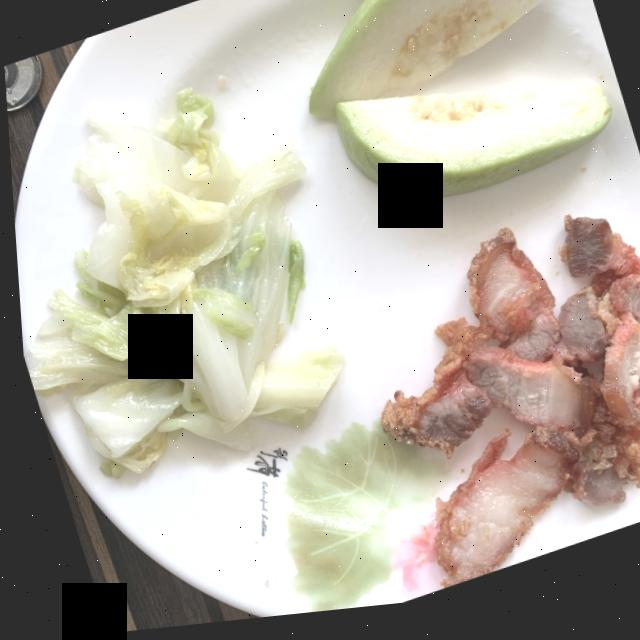cabbage: (23, 91, 338, 477)
coin: (3, 55, 41, 111)
guava -sliced-: (307, 0, 609, 206)
red grilled pork: (375, 228, 640, 596)
